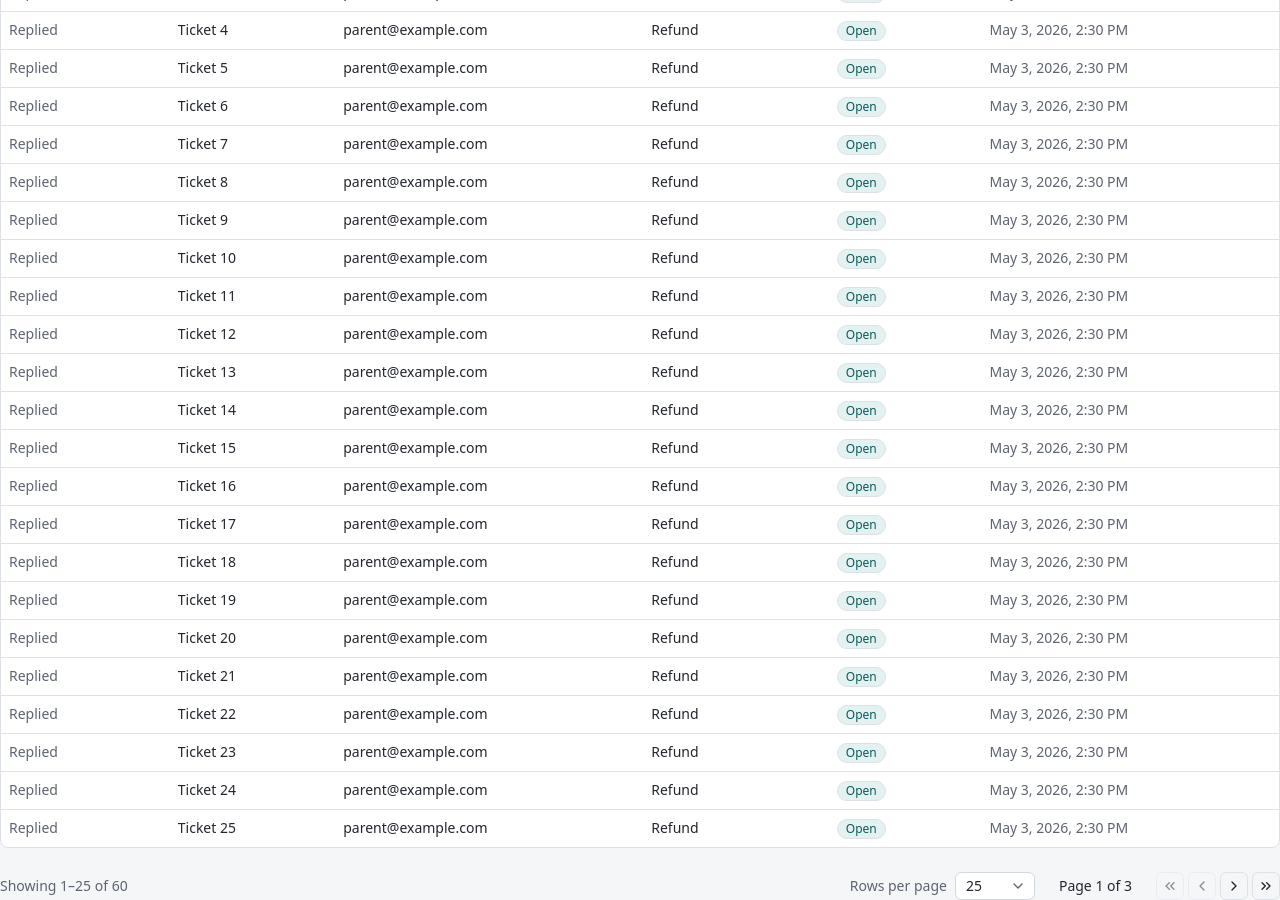
TicketsPage › pagination › moves between pages on the server
This screenshot has width=1280, height=900.
(page scrolled)
What coordinates should you click on to do the following:
click the button named "Next page"
I would click on:
 (1234, 886)
Its box is top-left (1220, 872), bottom-right (1248, 899).
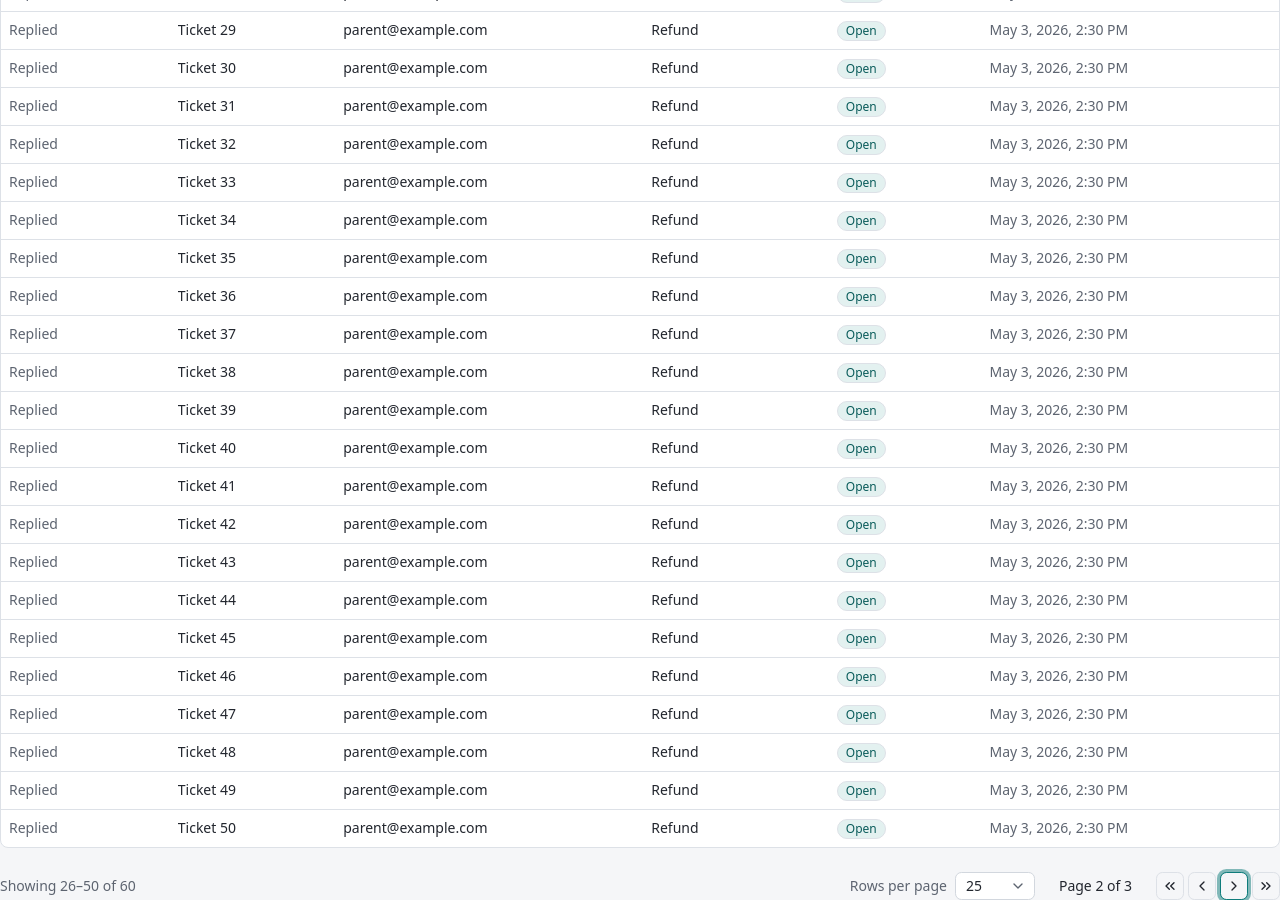
Now the text "Showing 26–50 of 60" is shown, box top-left (0, 876), bottom-right (136, 896)
What coordinates should you click on to do the following:
click the button named "Last page"
I would click on:
 (1266, 886)
Its box is top-left (1252, 872), bottom-right (1279, 899).
(page scrolled)
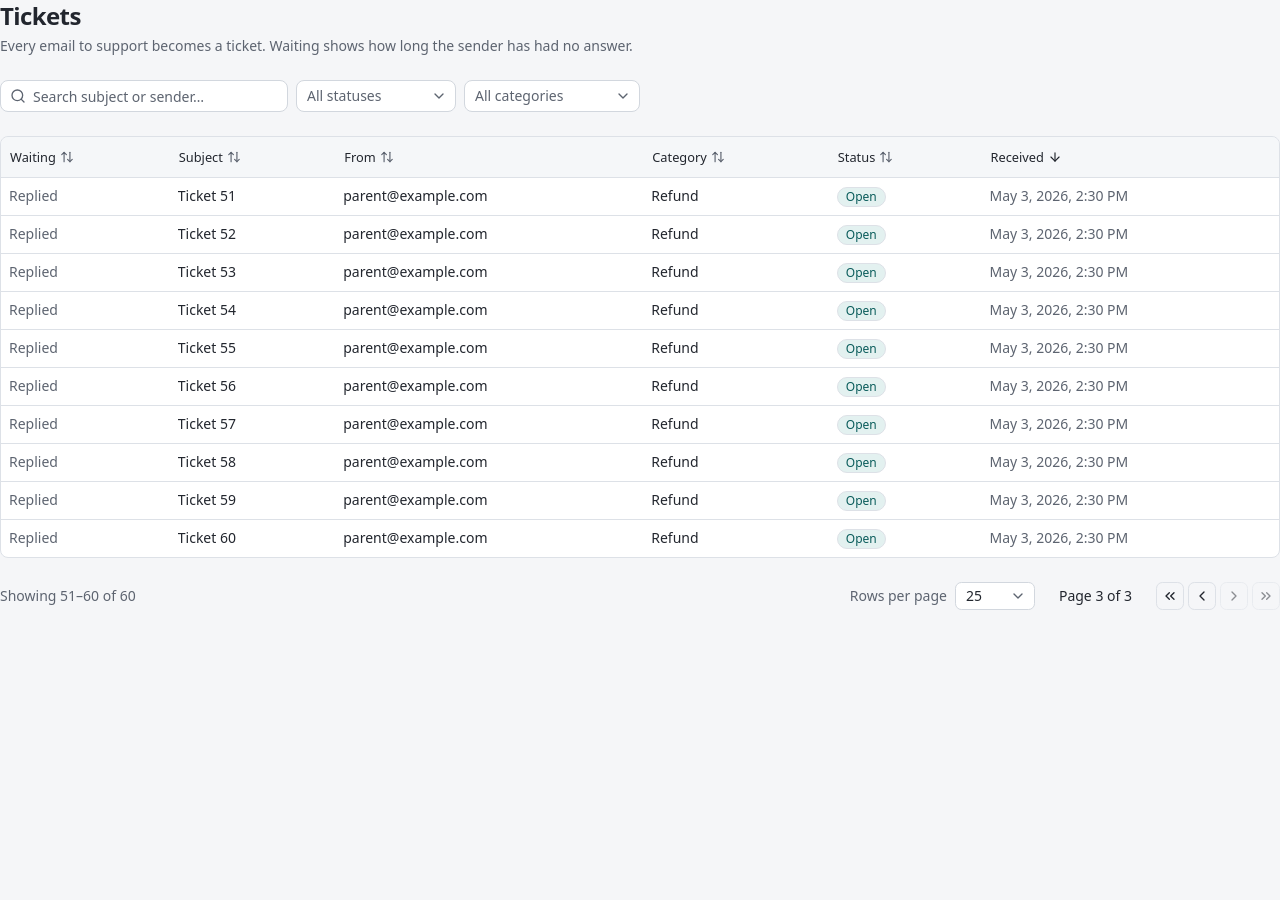
Now the link "Ticket 51" is shown, box top-left (178, 186), bottom-right (236, 205)
Now the text "Showing 51–60 of 60" is shown, box top-left (0, 586), bottom-right (136, 606)
Now the button named "Last page" is disabled, box top-left (1252, 582), bottom-right (1279, 610)
What coordinates should you click on to do the following:
click the button named "Previous page"
I would click on:
 (1202, 596)
Its box is top-left (1188, 582), bottom-right (1216, 610).
(page scrolled)
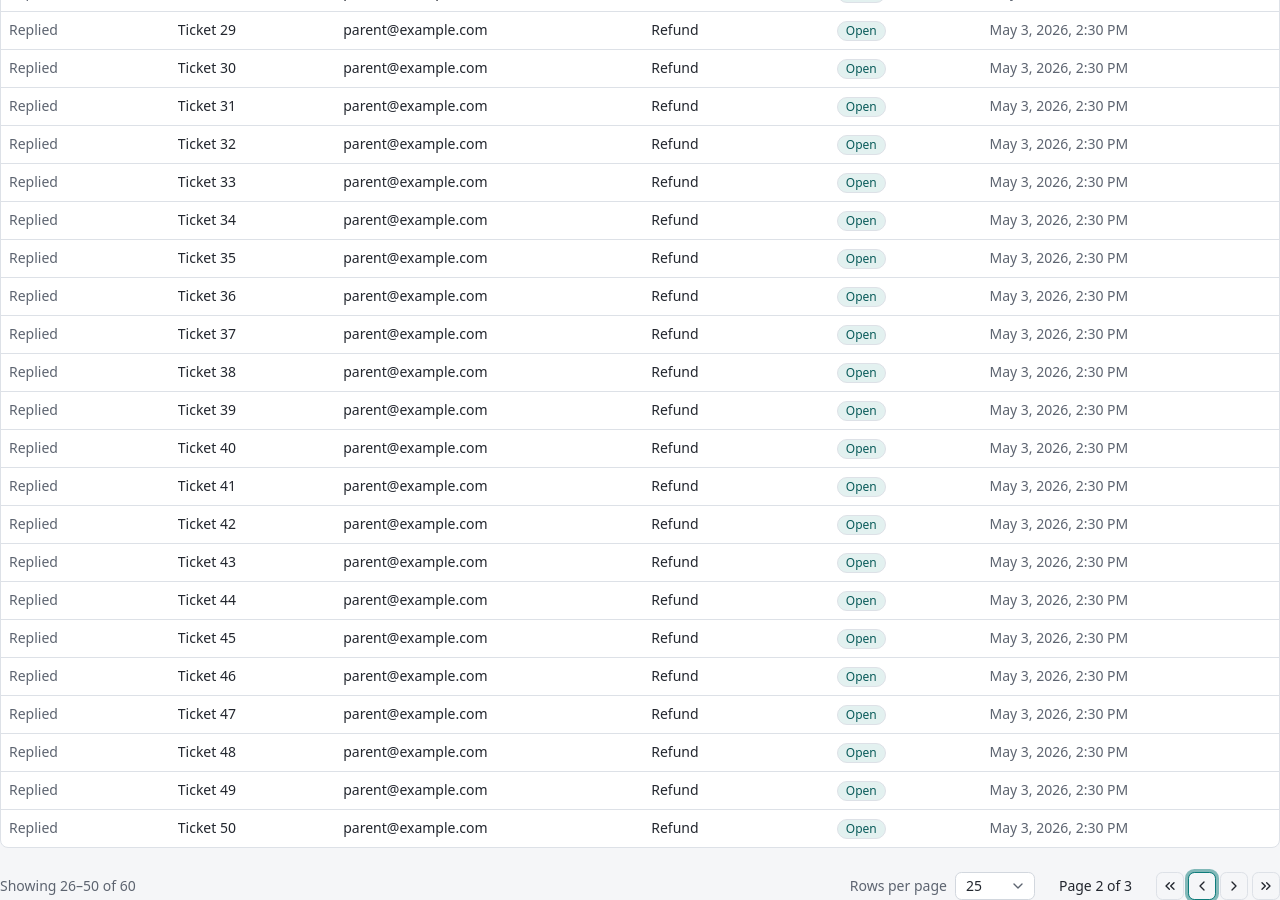
What coordinates should you click on to do the following:
click the button named "First page"
I would click on:
 (1170, 886)
Its box is top-left (1156, 872), bottom-right (1184, 899).
(page scrolled)
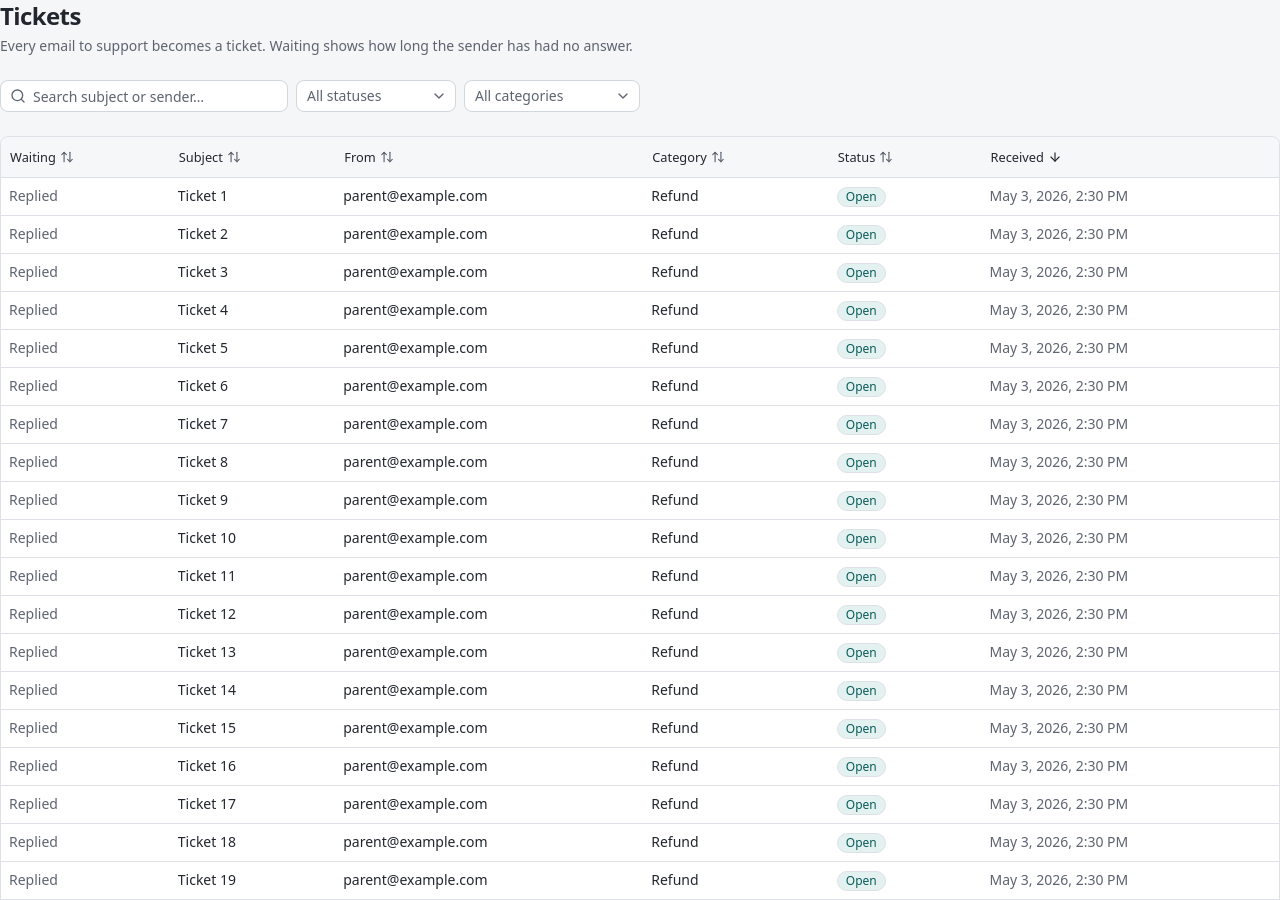
Now the link "Ticket 1" is shown, box top-left (178, 186), bottom-right (228, 205)
